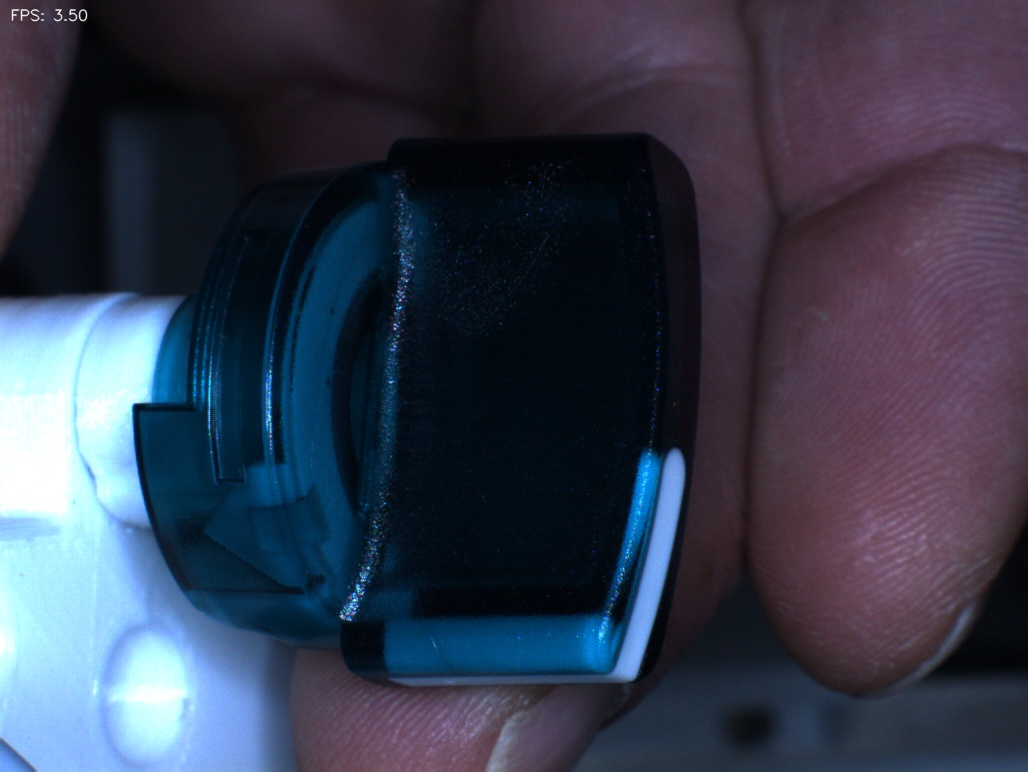PointNoir: (306, 279, 376, 342)
